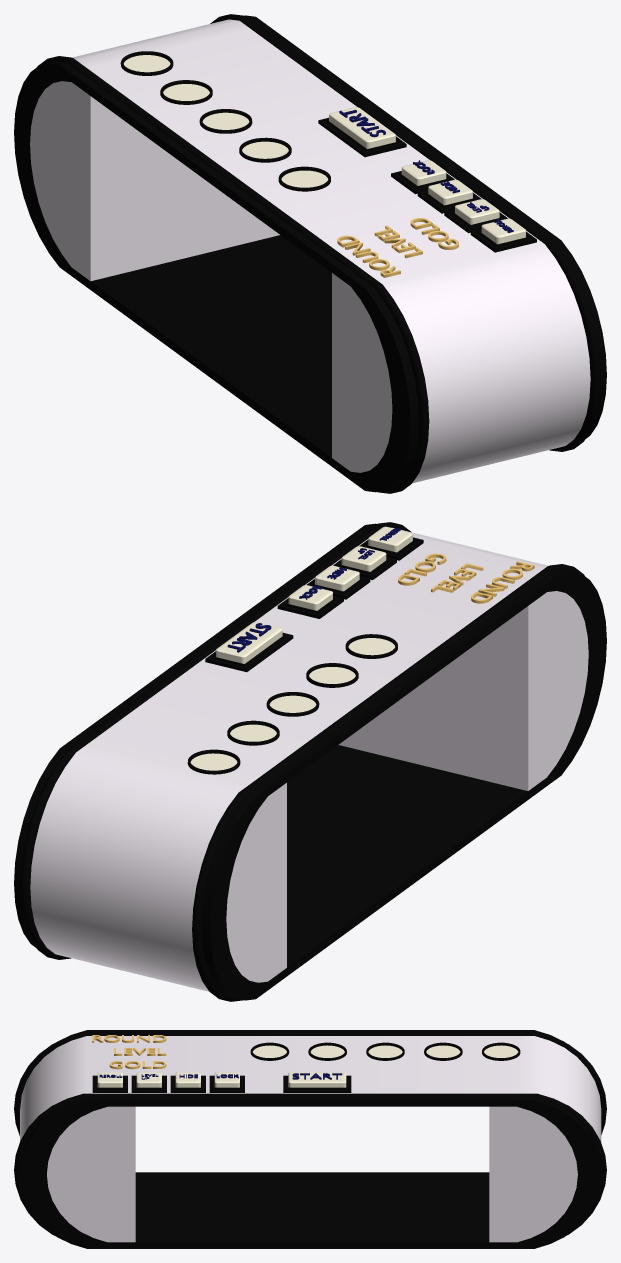
Rendered from ChessWar_table.fbx.
3 renders of one model, top to bottom at view 1: azimuth 30°, elevation 25°; view 2: azimuth 150°, elevation 25°; view 3: azimuth 270°, elevation 25°, orthographic. The views are drawn at different scales.
Parts seen in each view (by area): view 1: Circle, Circle.002, Circle.001, Circle.003, Cube, Cube.001, Text.001; view 2: Circle, Circle.001, Circle.002, Circle.003, Cube, Cube.001, Text.001, Text.003; view 3: Circle, Circle.001, Circle.002, Circle.003, Cube, Cube.001, Text.001, Text.003.
Part boxes in pixels (x1,y1,x2,y2): Circle: [14, 14, 606, 493]; Circle.002: [30, 81, 279, 281]; Circle.001: [332, 273, 392, 472]; Circle.003: [120, 51, 330, 191]; Cube: [391, 160, 536, 252]; Cube.001: [318, 107, 406, 157]; Text.001: [337, 235, 400, 277]; Circle: [14, 522, 606, 1001]; Circle.001: [338, 591, 588, 790]; Circle.002: [226, 783, 286, 982]; Circle.003: [187, 634, 397, 774]; Cube: [277, 526, 423, 618]; Cube.001: [205, 622, 293, 672]; Text.001: [471, 561, 534, 603]; Text.003: [398, 553, 446, 585]; Circle: [14, 1030, 606, 1248]; Circle.001: [47, 1106, 135, 1242]; Circle.002: [489, 1106, 577, 1242]; Circle.003: [250, 1042, 520, 1060]; Cube: [92, 1072, 244, 1092]; Cube.001: [283, 1072, 351, 1092]; Text.001: [92, 1035, 166, 1042]; Text.003: [109, 1061, 166, 1069].
Bounding box in the file's own units: 200 × 213 × 714.
